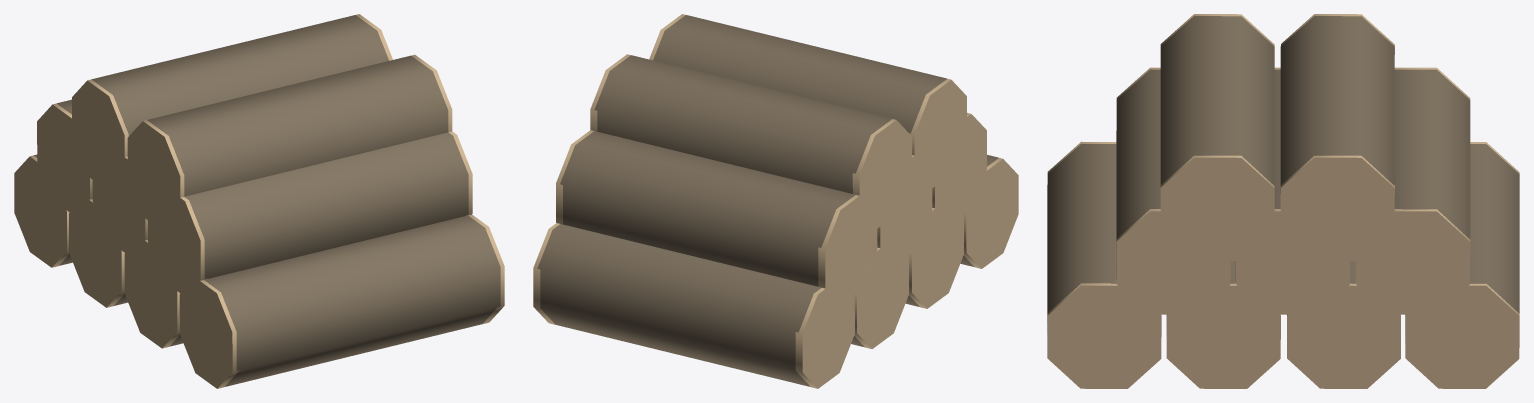
File: Wood_Log_Group.fbx
The picture shows the model from 3 angles, left to right: view 1: azimuth 30°, elevation 25°; view 2: azimuth 150°, elevation 25°; view 3: azimuth 270°, elevation 25°; orthographic projection. The views are drawn at different scales.
Visible parts, largest first — view 1: Cylinder__7__3, Cylinder__7__6, Cylinder__7__7, Cylinder__7__8, Cylinder__8__3, Cylinder__8__1, Cylinder__8__2, Cylinder__8_, Cylinder__8__6, Cylinder__8__5, Cylinder__8__4, Cylinder__8__7 (+3 smaller); view 2: Cylinder__7_, Cylinder__7__5, Cylinder__7__8, Cylinder__7__7, Cylinder__8_, Cylinder__8__3, Cylinder__8__2, Cylinder__8__1, Cylinder__8__5, Cylinder__8__4, Cylinder__8__6, Cylinder__8__8 (+4 smaller); view 3: Cylinder__7__8, Cylinder__7__7, Cylinder__7__5, Cylinder__9__7, Cylinder__9__8, Cylinder__7__3, Cylinder__9__3, Cylinder__9_, Cylinder__9__5, Cylinder__9__1, Cylinder__9__2, Cylinder__9__6 (+4 smaller).
Part boxes in pixels (x1=…): Cylinder__7__3: x1=204, y1=215, x2=500, y2=386; Cylinder__7__6: x1=184, y1=132, x2=468, y2=278; Cylinder__7__7: x1=147, y1=55, x2=448, y2=196; Cylinder__7__8: x1=92, y1=15, x2=388, y2=135; Cylinder__8__3: x1=179, y1=277, x2=239, y2=388; Cylinder__8__1: x1=69, y1=196, x2=124, y2=307; Cylinder__8__2: x1=124, y1=237, x2=180, y2=348; Cylinder__8_: x1=14, y1=155, x2=69, y2=267; Cylinder__8__6: x1=148, y1=185, x2=207, y2=293; Cylinder__8__5: x1=37, y1=103, x2=92, y2=212; Cylinder__8__4: x1=92, y1=145, x2=147, y2=252; Cylinder__8__7: x1=127, y1=120, x2=184, y2=219; Cylinder__7_: x1=537, y1=224, x2=821, y2=386; Cylinder__7__5: x1=560, y1=131, x2=855, y2=286; Cylinder__7__8: x1=594, y1=55, x2=891, y2=193; Cylinder__7__7: x1=653, y1=15, x2=946, y2=133; Cylinder__8_: x1=795, y1=279, x2=854, y2=388; Cylinder__8__3: x1=963, y1=158, x2=1018, y2=268; Cylinder__8__2: x1=909, y1=199, x2=963, y2=308; Cylinder__8__1: x1=854, y1=239, x2=908, y2=348; Cylinder__8__5: x1=818, y1=194, x2=877, y2=294; Cylinder__8__4: x1=877, y1=154, x2=932, y2=254; Cylinder__8__6: x1=932, y1=113, x2=986, y2=214; Cylinder__8__8: x1=852, y1=119, x2=911, y2=228; Cylinder__7__8: x1=1280, y1=16, x2=1394, y2=190; Cylinder__7__7: x1=1160, y1=16, x2=1274, y2=185; Cylinder__7__5: x1=1394, y1=69, x2=1470, y2=239; Cylinder__9__7: x1=1160, y1=155, x2=1274, y2=261; Cylinder__9__8: x1=1280, y1=155, x2=1394, y2=261; Cylinder__7__3: x1=1047, y1=144, x2=1116, y2=333; Cylinder__9__3: x1=1047, y1=283, x2=1161, y2=388; Cylinder__9_: x1=1405, y1=283, x2=1519, y2=388; Cylinder__9__5: x1=1356, y1=209, x2=1470, y2=314; Cylinder__9__1: x1=1287, y1=283, x2=1400, y2=388; Cylinder__9__2: x1=1166, y1=283, x2=1280, y2=388; Cylinder__9__6: x1=1116, y1=209, x2=1230, y2=314.
Bounding box in the file's own units: 119 × 89.44 × 165.
